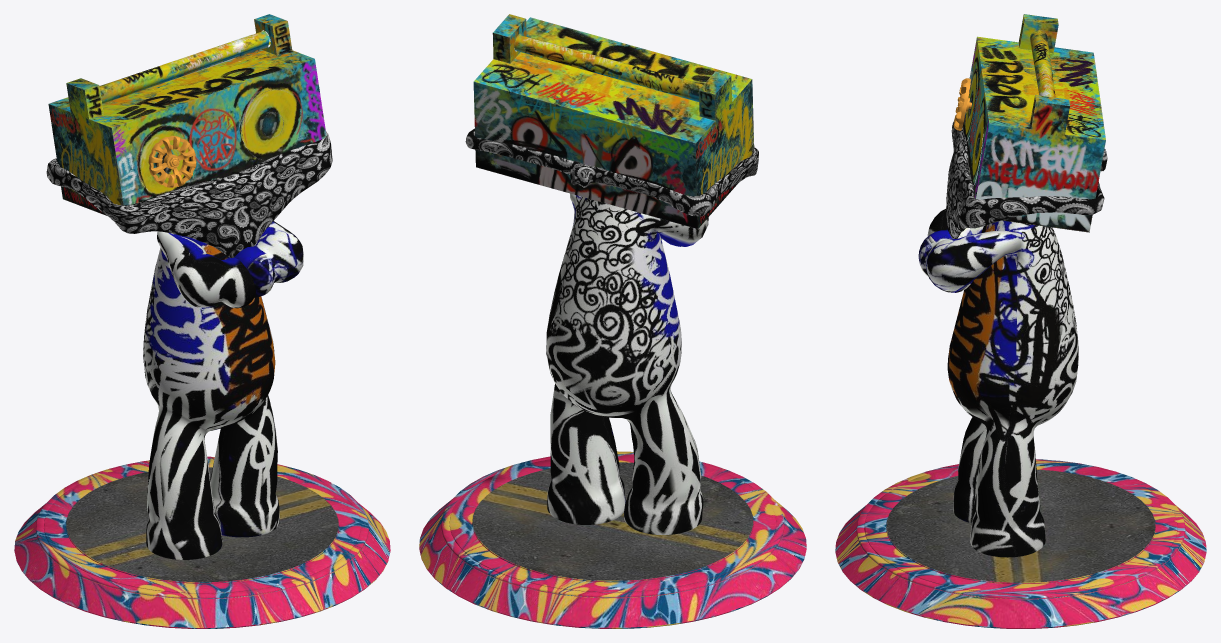
3 views of the same model, side by side, from view 1: azimuth 30°, elevation 25°; view 2: azimuth 150°, elevation 25°; view 3: azimuth 270°, elevation 25° (orthographic). The views are drawn at different scales.
Bounding box in the file's own units: 1.45 × 2.12 × 1.45.
Materials: 6 (6 with a texture image).
